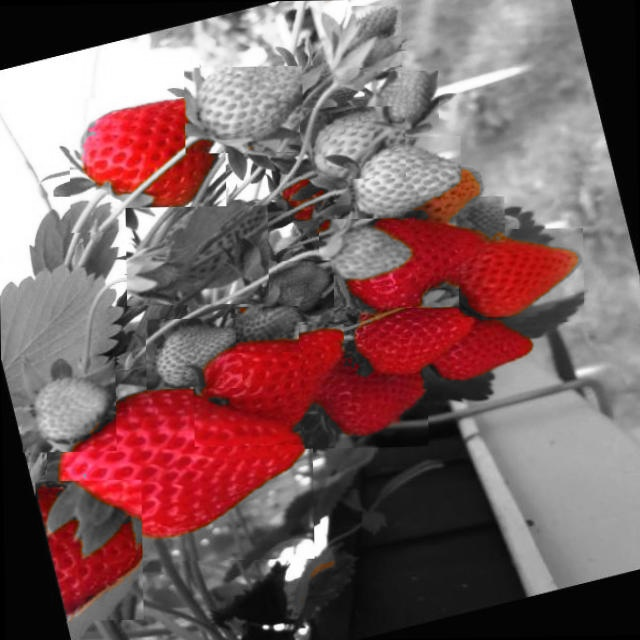ripe: (45, 366, 314, 562), (68, 95, 226, 232), (192, 324, 358, 446), (338, 190, 481, 308), (35, 479, 144, 621), (303, 338, 428, 448), (342, 283, 479, 383), (458, 227, 584, 324), (419, 316, 536, 388)
unripe: (126, 204, 270, 306), (335, 136, 461, 224), (184, 65, 304, 153), (21, 360, 117, 452), (300, 105, 406, 179), (145, 317, 242, 389), (318, 217, 416, 287), (246, 260, 334, 322), (321, 4, 402, 68), (364, 70, 438, 134), (441, 196, 505, 243), (234, 306, 298, 352)
